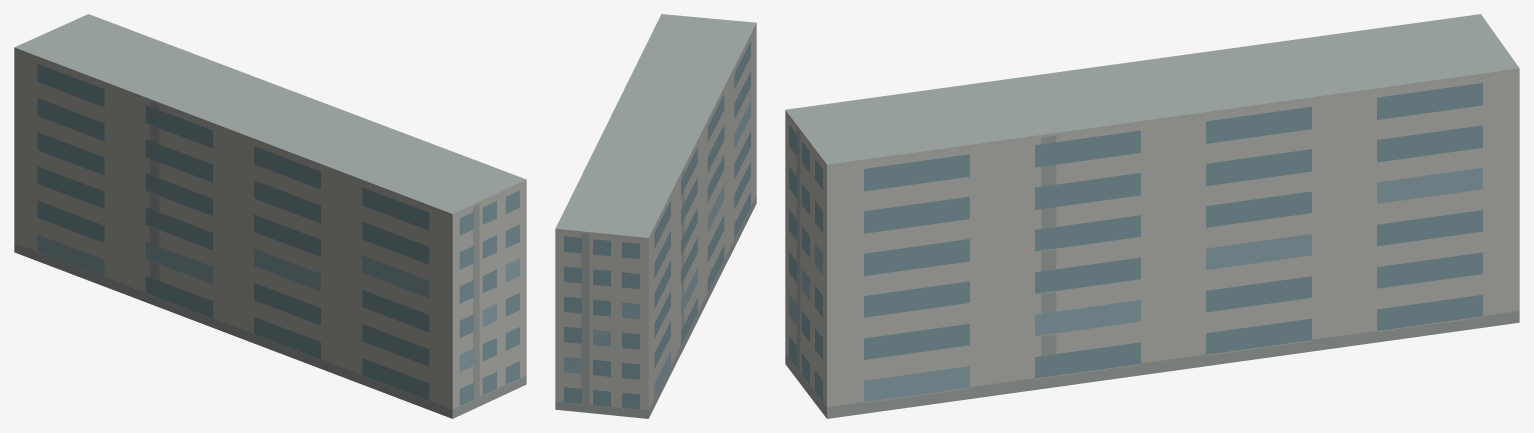
File: survey-upis-32982547.glb
3 views of the same model, side by side, from view 1: azimuth 30°, elevation 25°; view 2: azimuth 150°, elevation 25°; view 3: azimuth 270°, elevation 25° (orthographic). The views are drawn at different scales.
Visible parts, largest first — view 1: survey-upis-32982547.tmp; view 2: survey-upis-32982547.tmp; view 3: survey-upis-32982547.tmp.
Part boxes in pixels (box(x1,y1,x2,y2)): survey-upis-32982547.tmp: box(14, 14, 526, 418); survey-upis-32982547.tmp: box(555, 14, 756, 418); survey-upis-32982547.tmp: box(785, 14, 1519, 418).
Size of the model in its own units: 27.35 by 21.5 by 56.31.
